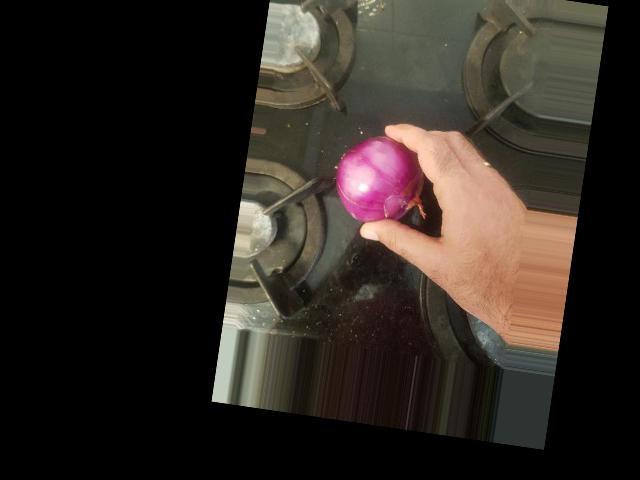onion: (297, 51, 395, 145)
